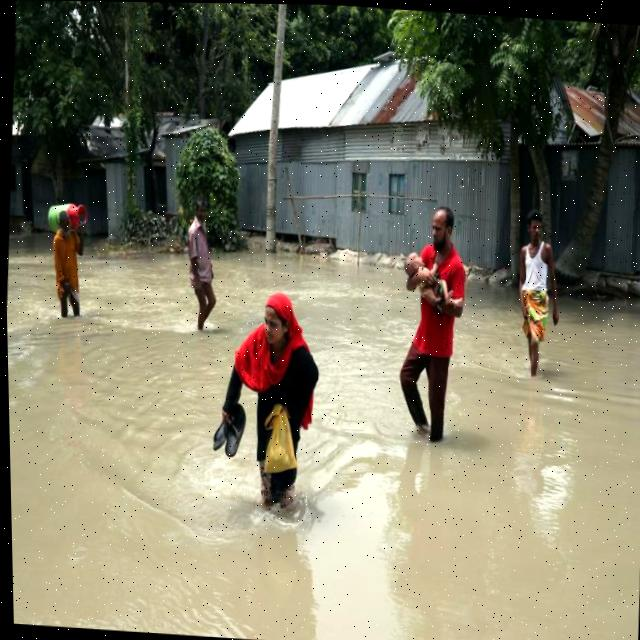civilian: (205, 287, 327, 516), (378, 200, 479, 449), (503, 206, 572, 385), (35, 188, 106, 328), (165, 189, 227, 336), (396, 242, 477, 323)
